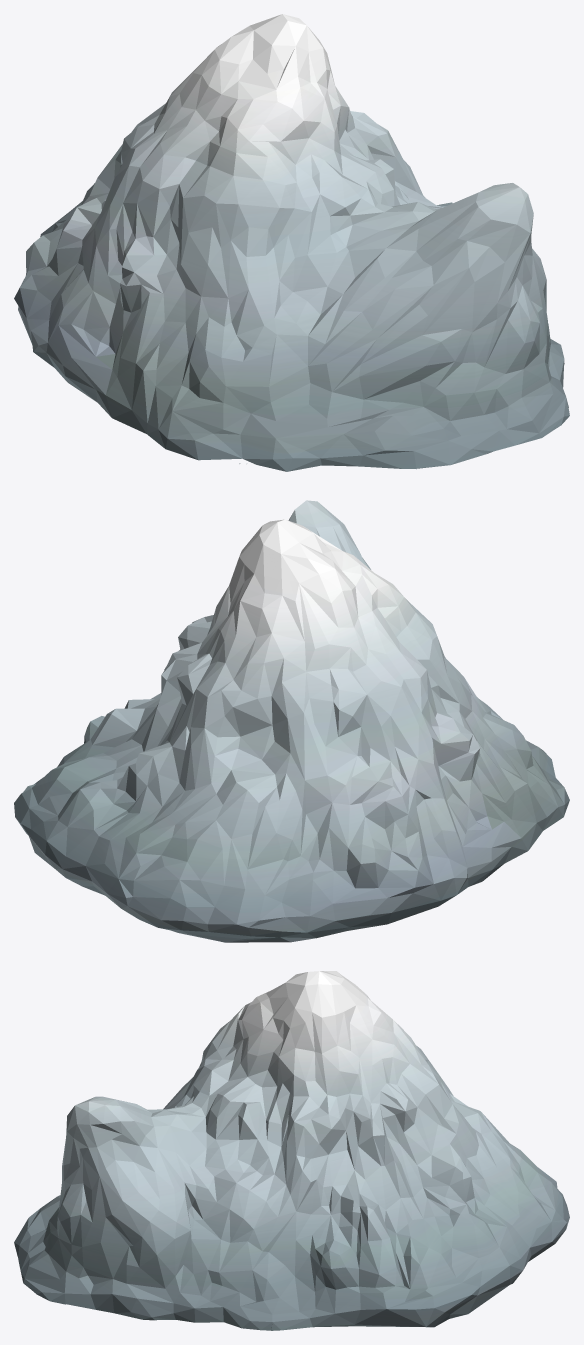
The picture shows the model from 3 angles, top to bottom: view 1: azimuth 30°, elevation 25°; view 2: azimuth 150°, elevation 25°; view 3: azimuth 270°, elevation 25°; orthographic projection. The views are drawn at different scales.
Visible parts, largest first — view 1: node_Mountain2_-1126656_1; view 2: node_Mountain2_-1126656_1; view 3: node_Mountain2_-1126656_1.
Part boxes in pixels (x1,y1,x2,y2): node_Mountain2_-1126656_1: (14, 14, 569, 471); node_Mountain2_-1126656_1: (14, 500, 569, 942); node_Mountain2_-1126656_1: (14, 971, 569, 1330).
Bounding box in the file's own units: 139 × 98.91 × 181.
1 material, 1 textured.
